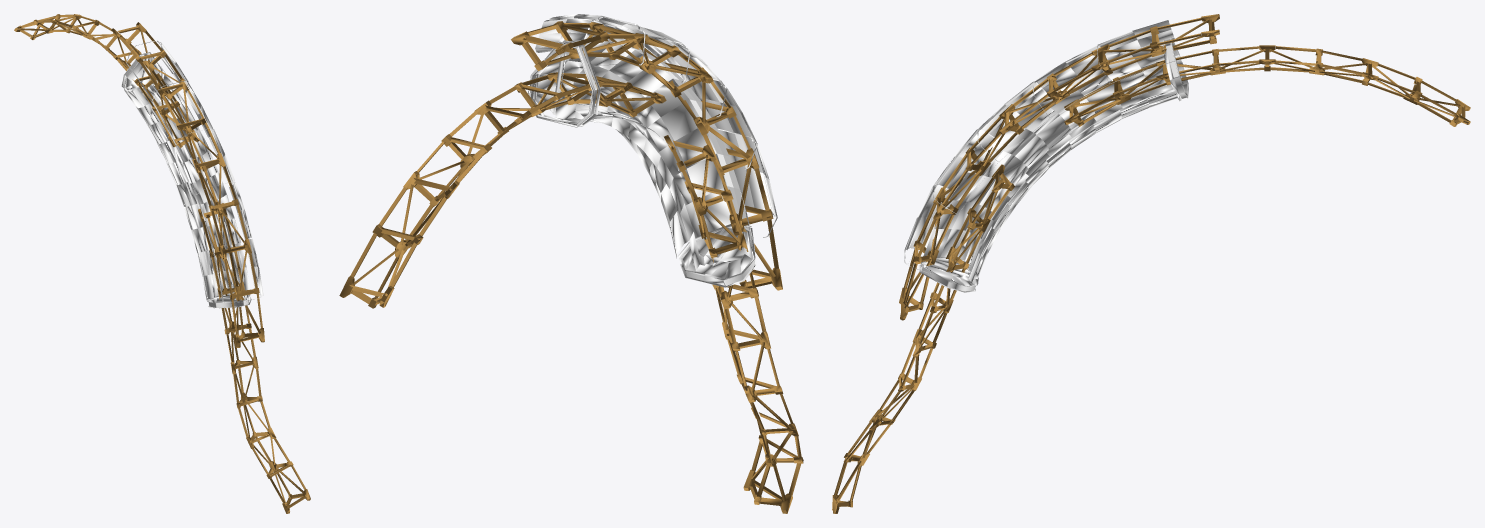
The model's file is Ring_Debris_field_c.glb.
3 renders of one model, left to right at view 1: azimuth 30°, elevation 25°; view 2: azimuth 150°, elevation 25°; view 3: azimuth 270°, elevation 25°, orthographic. The views are drawn at different scales.
Bounding box in the file's own units: 40.39 × 276 × 331.
